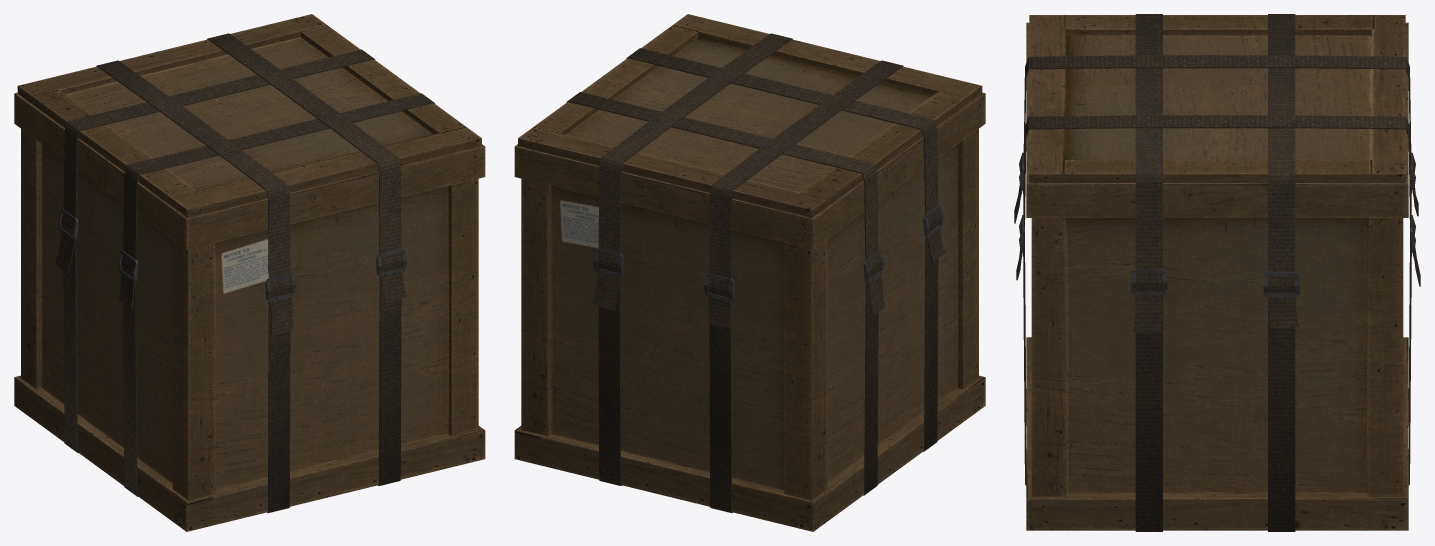
The model's file is wooden_crate_hx_5_1.obj.
3 views of the same model, side by side, from view 1: azimuth 30°, elevation 25°; view 2: azimuth 150°, elevation 25°; view 3: azimuth 270°, elevation 25° (orthographic). The views are drawn at different scales.
Parts seen in each view (by area): view 1: wooden_crate_hx_5_1; view 2: wooden_crate_hx_5_1; view 3: wooden_crate_hx_5_1.
Boxes of the visible parts, x1,y1,x2,y2 form: wooden_crate_hx_5_1: (14, 14, 485, 531); wooden_crate_hx_5_1: (514, 14, 985, 531); wooden_crate_hx_5_1: (1014, 14, 1420, 531).
Size of the model in its own units: 1.49 by 1.46 by 1.49.
